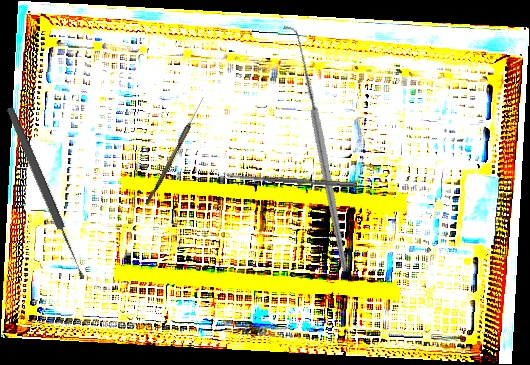Hook Surgical: (214, 24, 417, 274)
Surgical Spoon: (4, 105, 88, 282), (145, 95, 206, 207), (222, 172, 358, 188)
